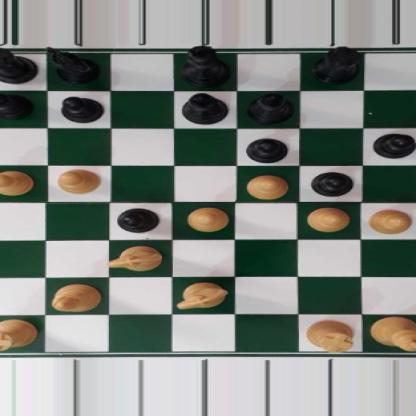black-bishop: (179, 93, 229, 124), (246, 93, 295, 123)
black-king: (179, 44, 231, 87)
black-knight: (45, 47, 100, 82)
black-pawn: (58, 96, 105, 123), (372, 132, 416, 159), (243, 137, 288, 163), (311, 170, 354, 197), (117, 208, 159, 232), (0, 92, 32, 119)
black-rook: (310, 46, 362, 83), (0, 44, 39, 83)
white-bishop: (49, 283, 102, 314)
white-king: (369, 315, 416, 353)
white-knight: (108, 245, 162, 271), (174, 283, 230, 308)
white-pawn: (367, 207, 412, 235), (242, 173, 290, 198), (56, 168, 101, 194), (185, 206, 230, 232), (306, 206, 350, 232), (0, 170, 35, 195)
white-rook: (306, 320, 355, 353), (0, 318, 37, 351)
